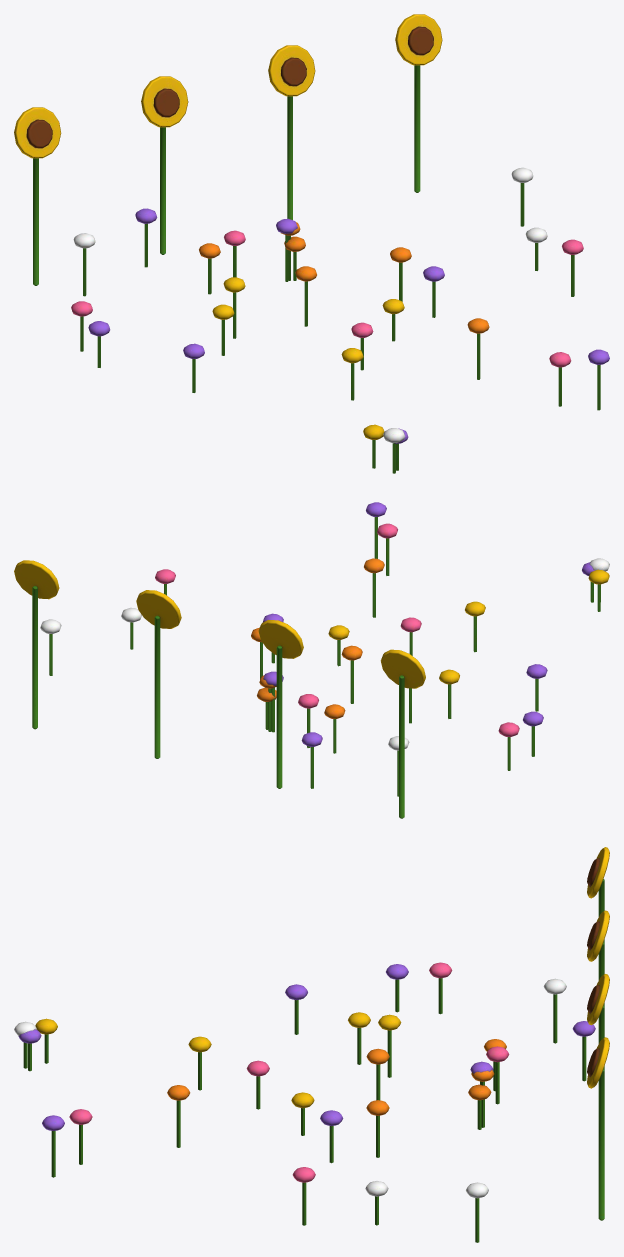
The model's file is beehive.glb.
3 renders of one model, top to bottom at view 1: azimuth 30°, elevation 25°; view 2: azimuth 150°, elevation 25°; view 3: azimuth 270°, elevation 25°, orthographic. The views are drawn at different scales.
Parts seen in each view (by area): view 1: beehive; view 2: beehive; view 3: beehive.
Part boxes in pixels (x1,y1,x2,y2): beehive: (14, 14, 609, 473); beehive: (14, 502, 609, 818); beehive: (14, 847, 609, 1242).
Bounding box in the file's own units: 1.71 × 0.5965 × 1.79.
Materials: 1 (1 with a texture image).
